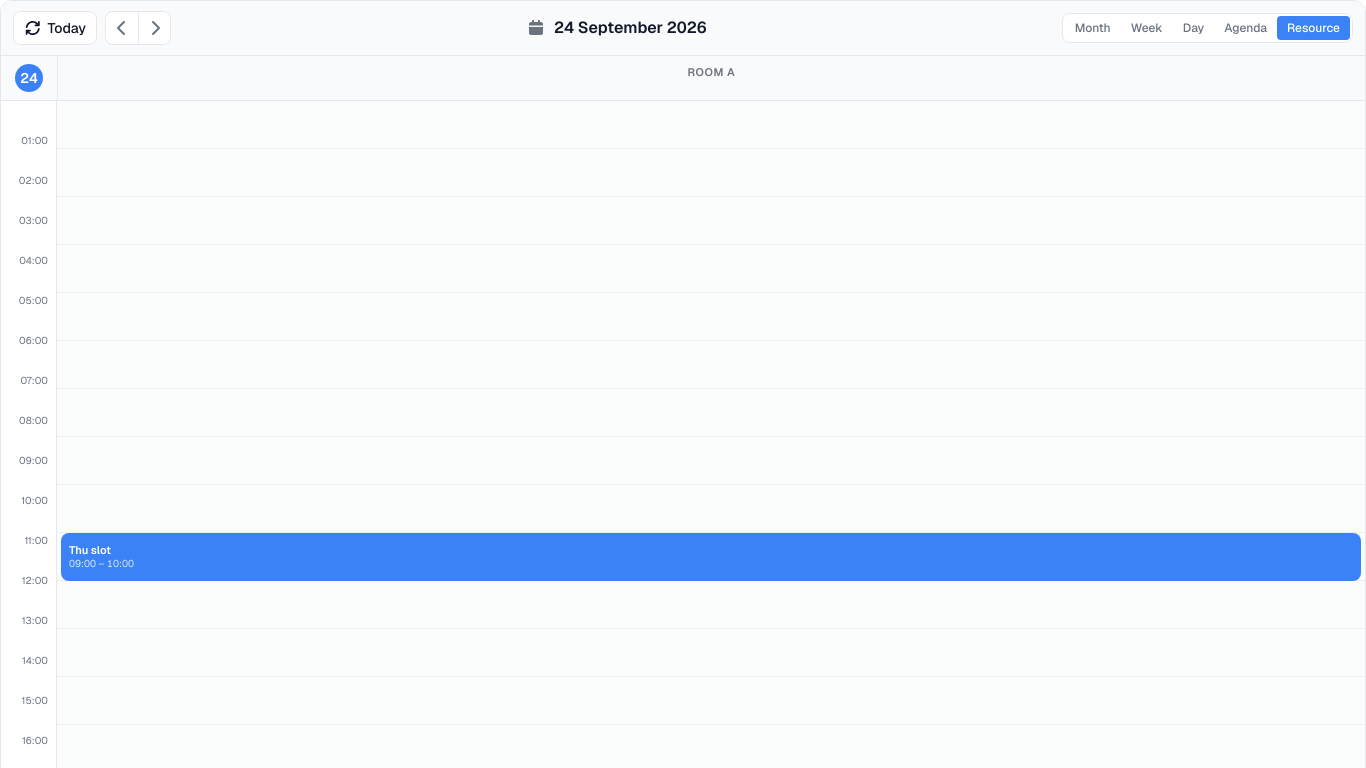
Test: <Calendar /> views › labels and pages the resource view one day at a time
Expected: the heading reads "24 September 2026", 554,17 -> 707,38
Expected: the button "Thu slot 09:00 – 10:00" is shown, 61,533 -> 1361,581
Click the button named "Next".
click(154, 28)  # box 138,12 -> 170,44
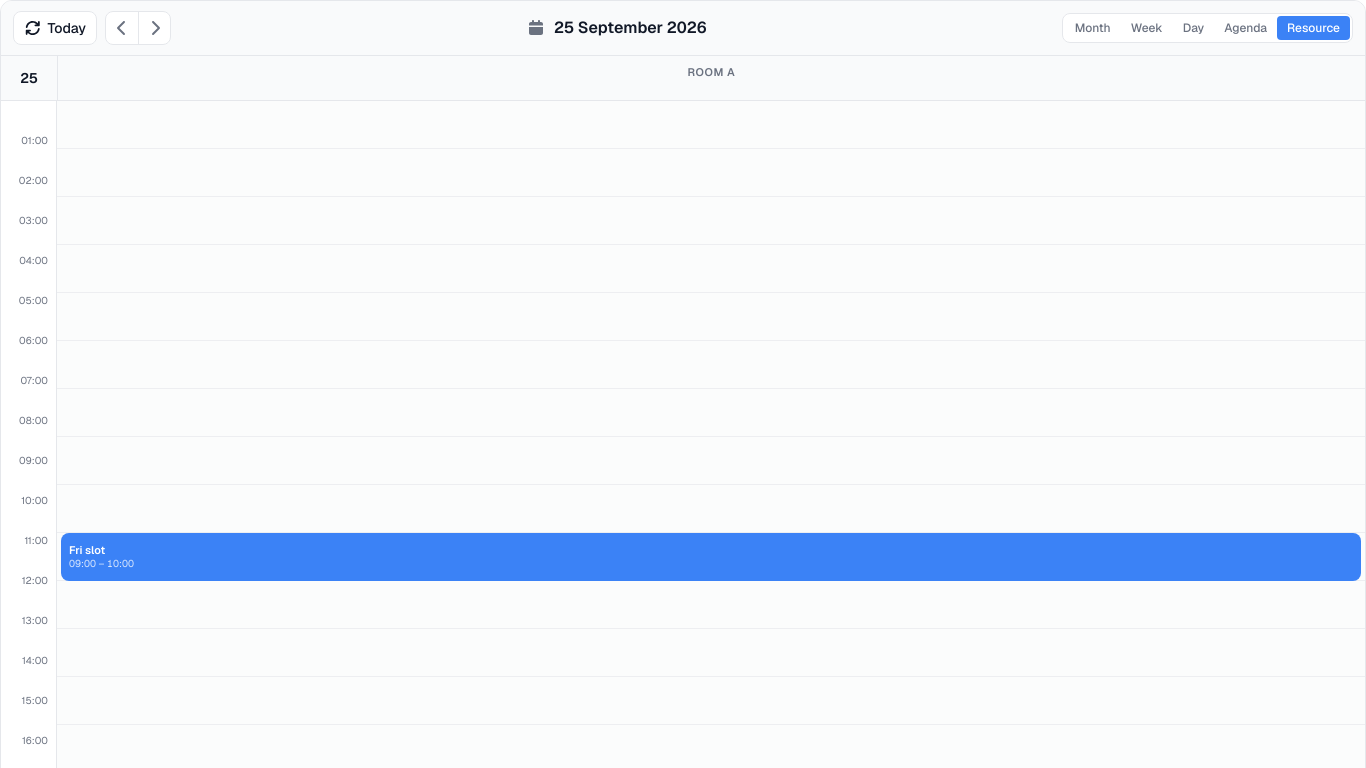
Expected: the heading reads "25 September 2026", 554,17 -> 707,38
Expected: the button "Fri slot 09:00 – 10:00" is shown, 61,533 -> 1361,581
Expected: the button "Thu slot" is gone
Click the button named "Previous".
click(122, 28)  # box 106,12 -> 138,44
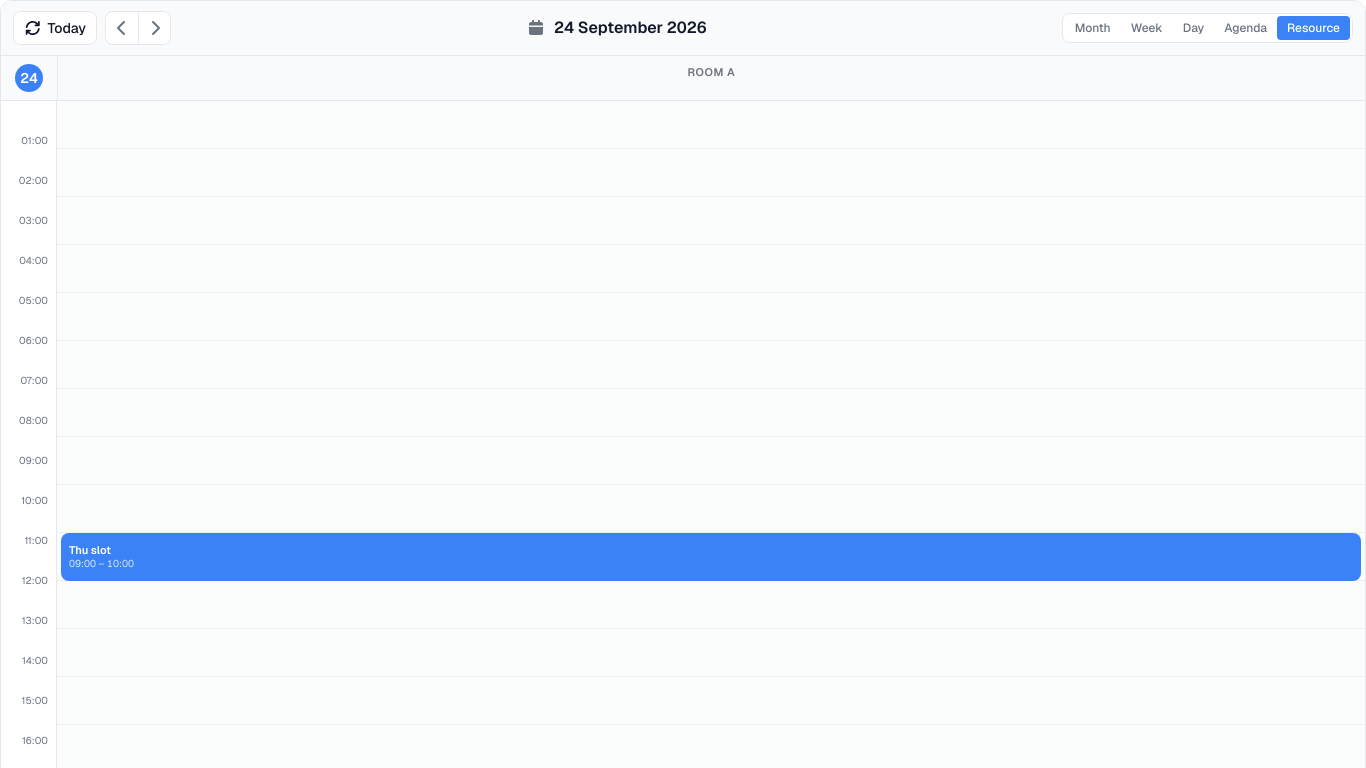
Click the button named "Previous".
click(122, 28)  # box 106,12 -> 138,44
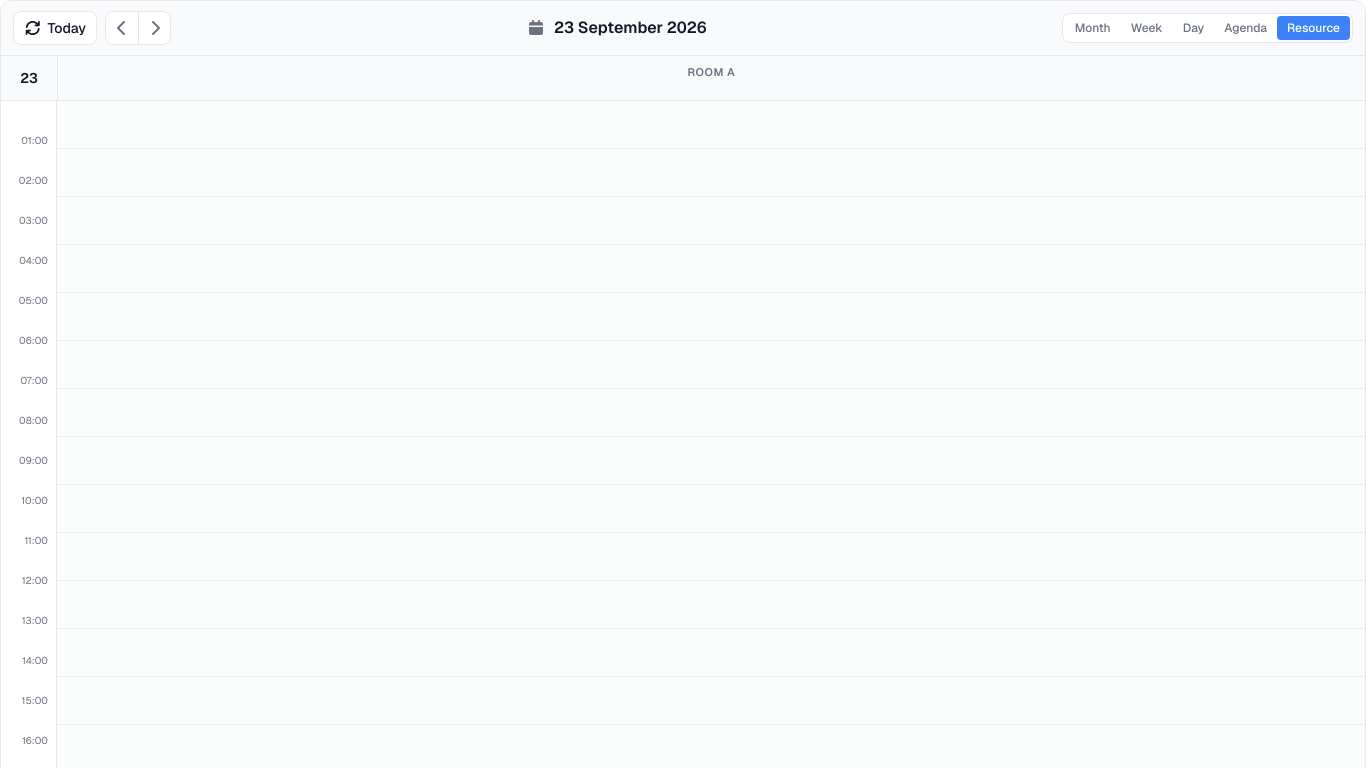
Expected: the heading reads "23 September 2026", 554,17 -> 707,38
